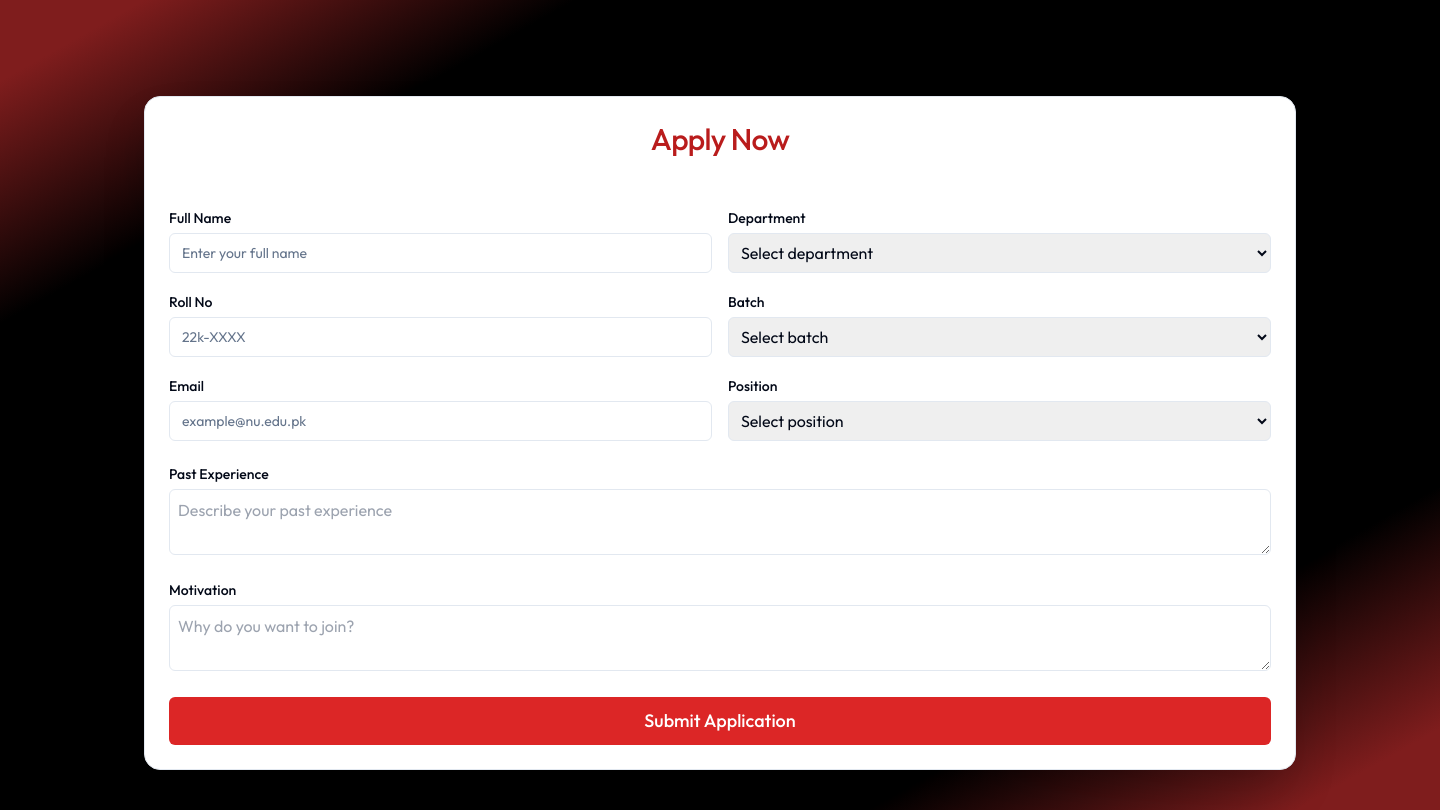
Scenario: Team Form Validation › should show error for invalid email domain
Step 1. Type "user@gmail.com" into the field with placeholder "example@nu.edu.pk" → (440, 421), box [169, 401, 712, 441]
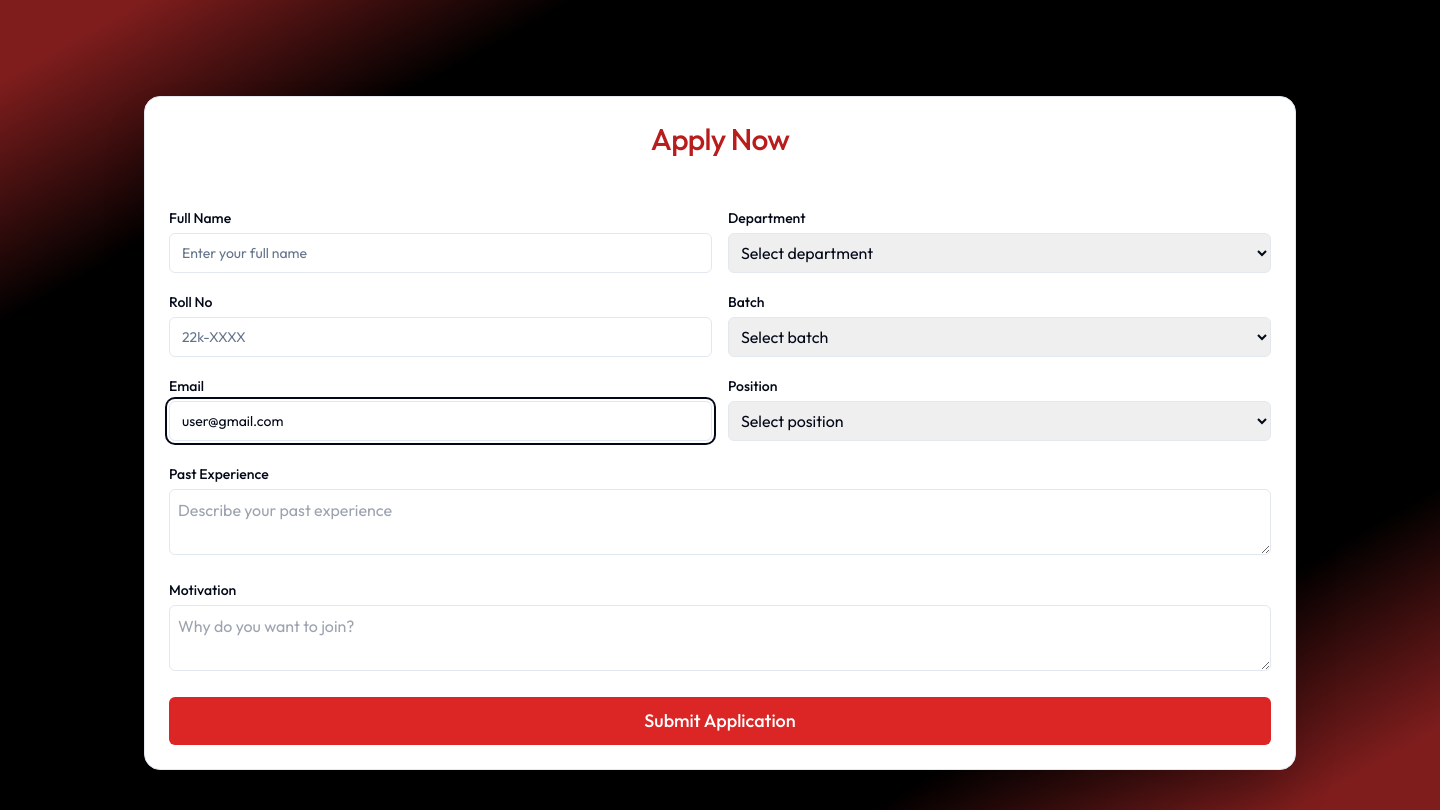
Step 2. Click the button "Submit Application" → (720, 721), box [169, 697, 1271, 745]
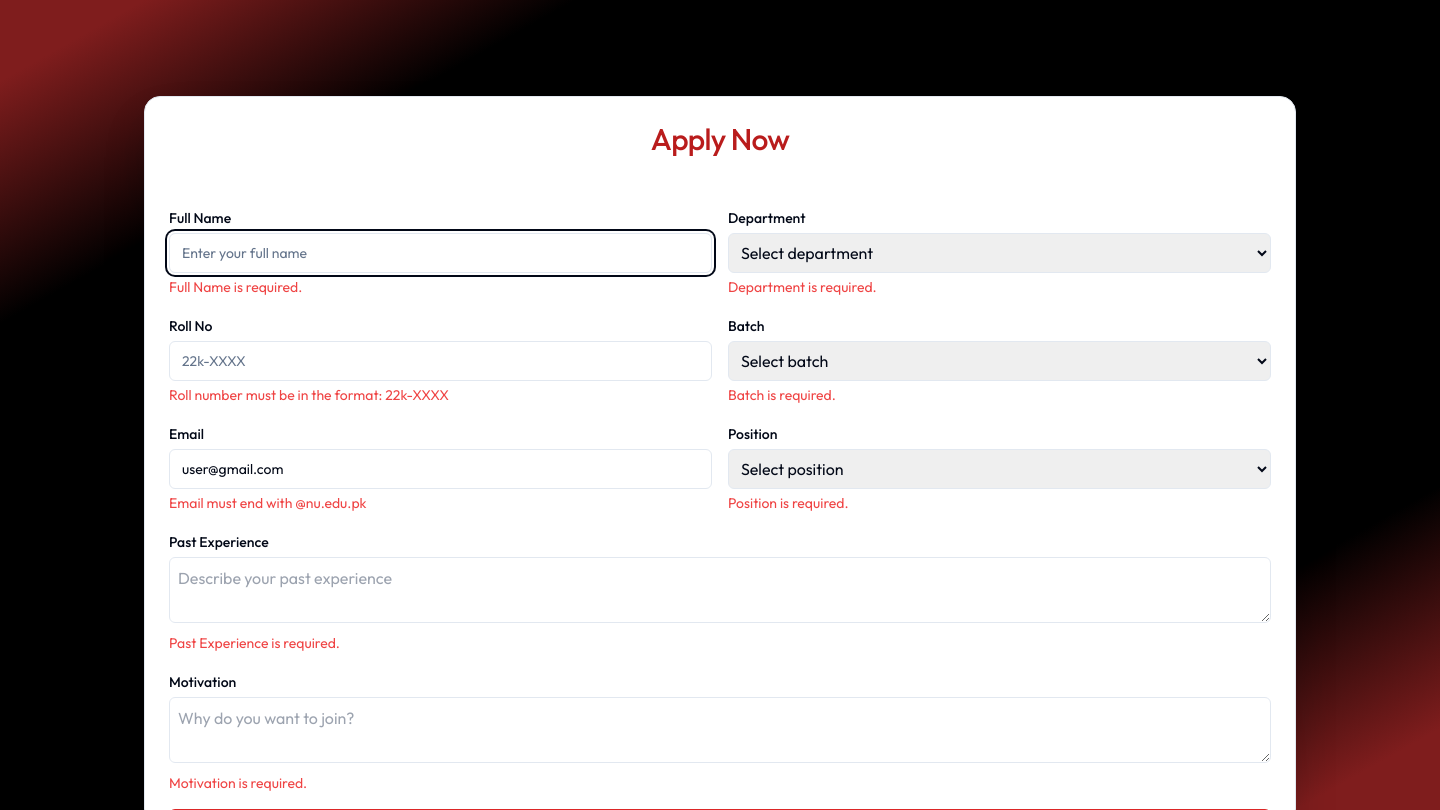
Expected: the text "Email must end with @nu.edu.pk" is shown, [169, 494, 366, 512]
